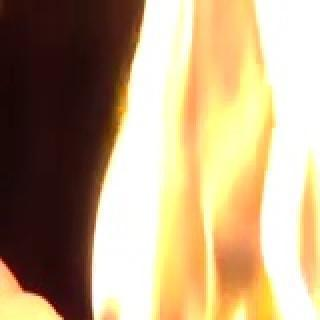fire: (78, 2, 320, 320)
